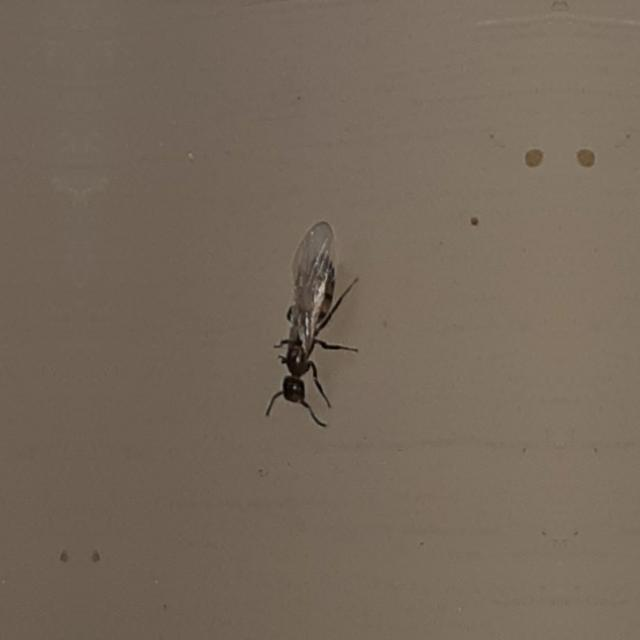Colobopsis: (256, 211, 356, 433)
